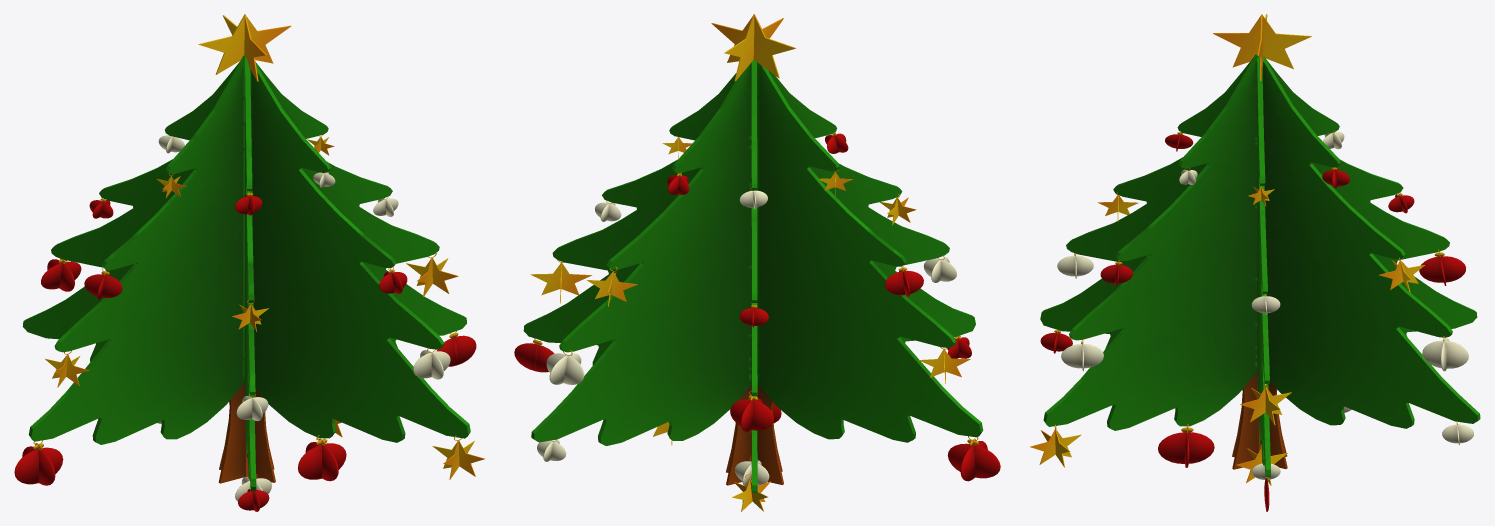
3 renders of one model, left to right at view 1: azimuth 30°, elevation 25°; view 2: azimuth 150°, elevation 25°; view 3: azimuth 270°, elevation 25°, orthographic. The views are drawn at different scales.
Visible parts, largest first — view 1: V5 Christmas Collection2.18_V5 Christmas Collection2_0.001; view 2: V5 Christmas Collection2.18_V5 Christmas Collection2_0.001; view 3: V5 Christmas Collection2.18_V5 Christmas Collection2_0.001.
Part boxes in pixels (<box>): V5 Christmas Collection2.18_V5 Christmas Collection2_0.001: <box>14,14,485,511</box>; V5 Christmas Collection2.18_V5 Christmas Collection2_0.001: <box>514,14,1000,511</box>; V5 Christmas Collection2.18_V5 Christmas Collection2_0.001: <box>1030,14,1480,511</box>.
Bounding box in the file's own units: 24.49 × 22.85 × 20.87.
1 material, 1 textured.
